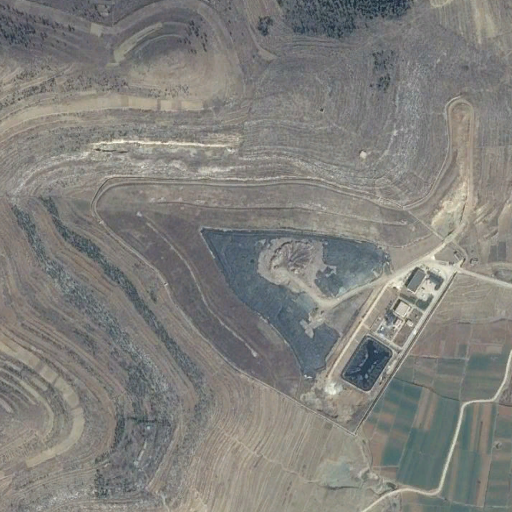lf: (200, 224, 392, 373)
